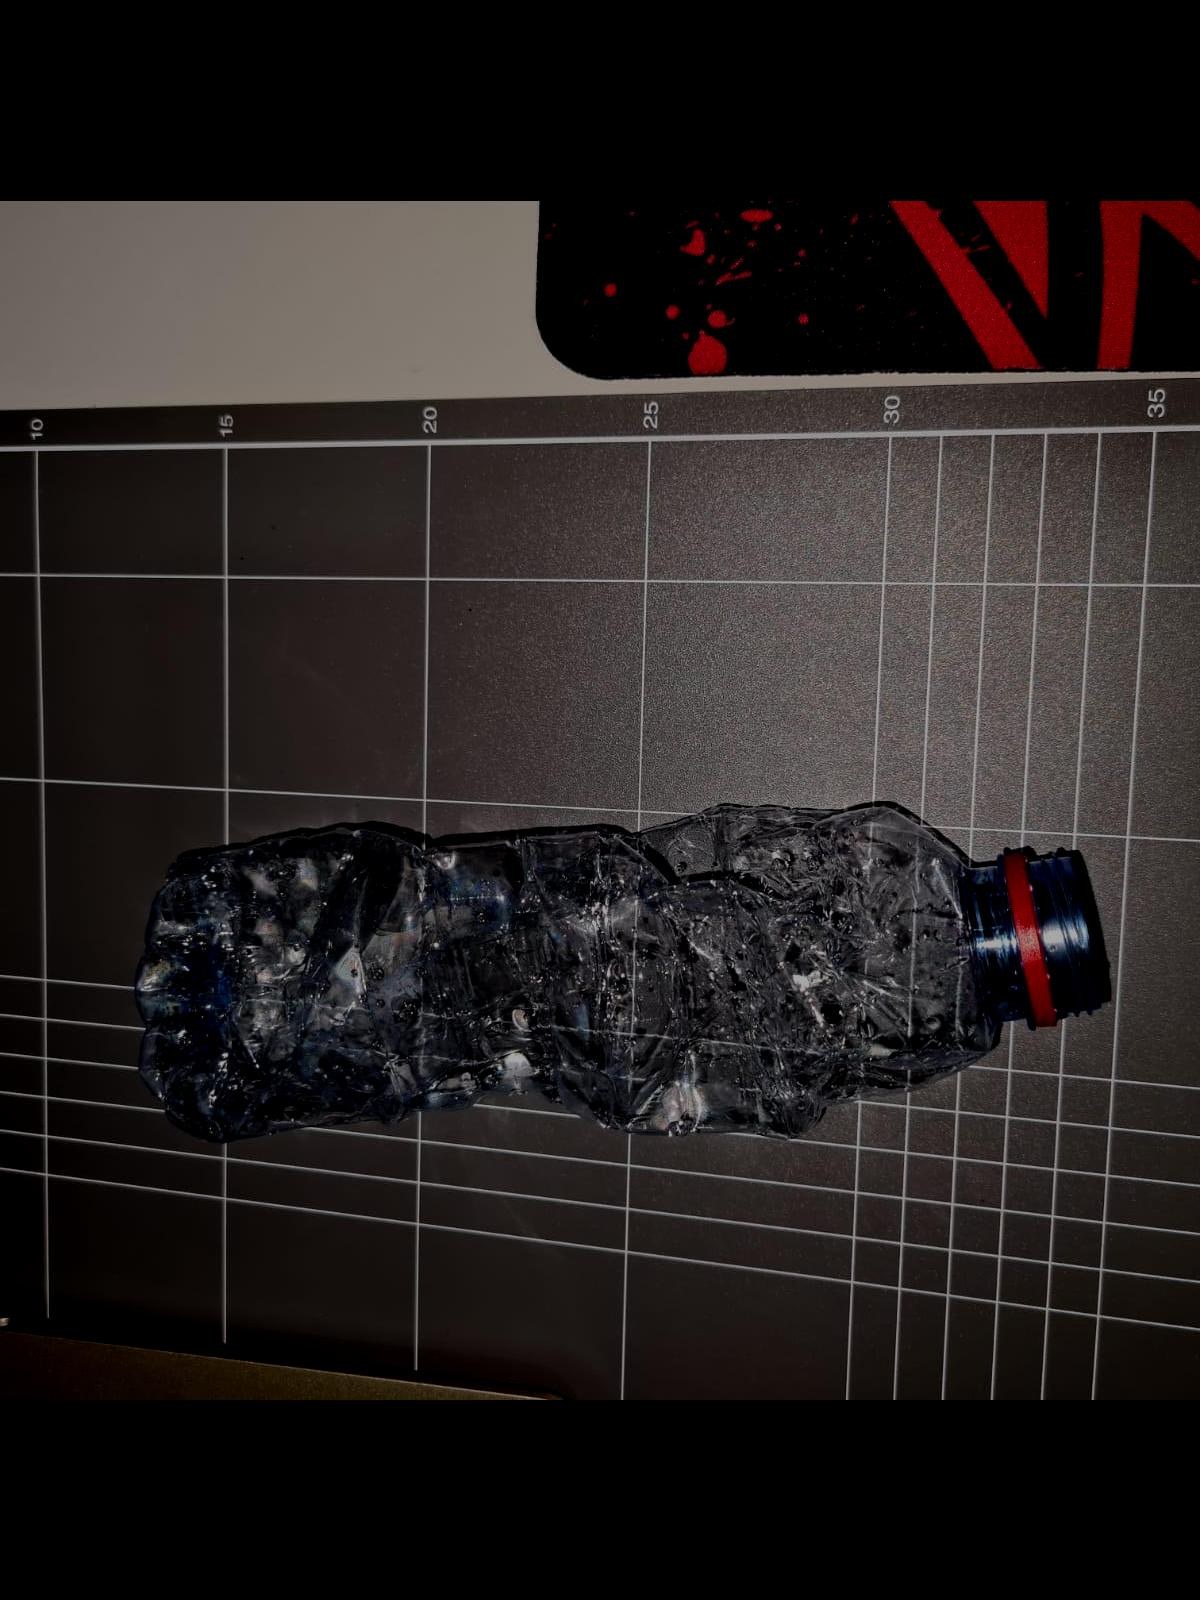bottle: (141, 770, 1104, 1151)
